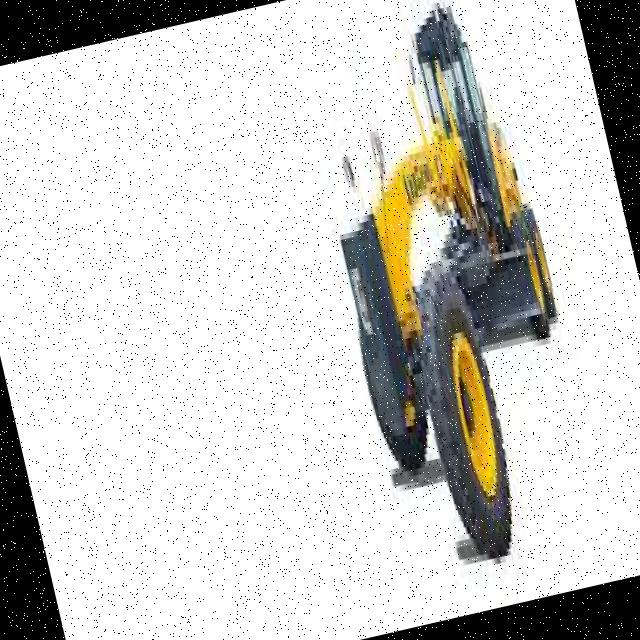Grader: (279, 0, 629, 607)
